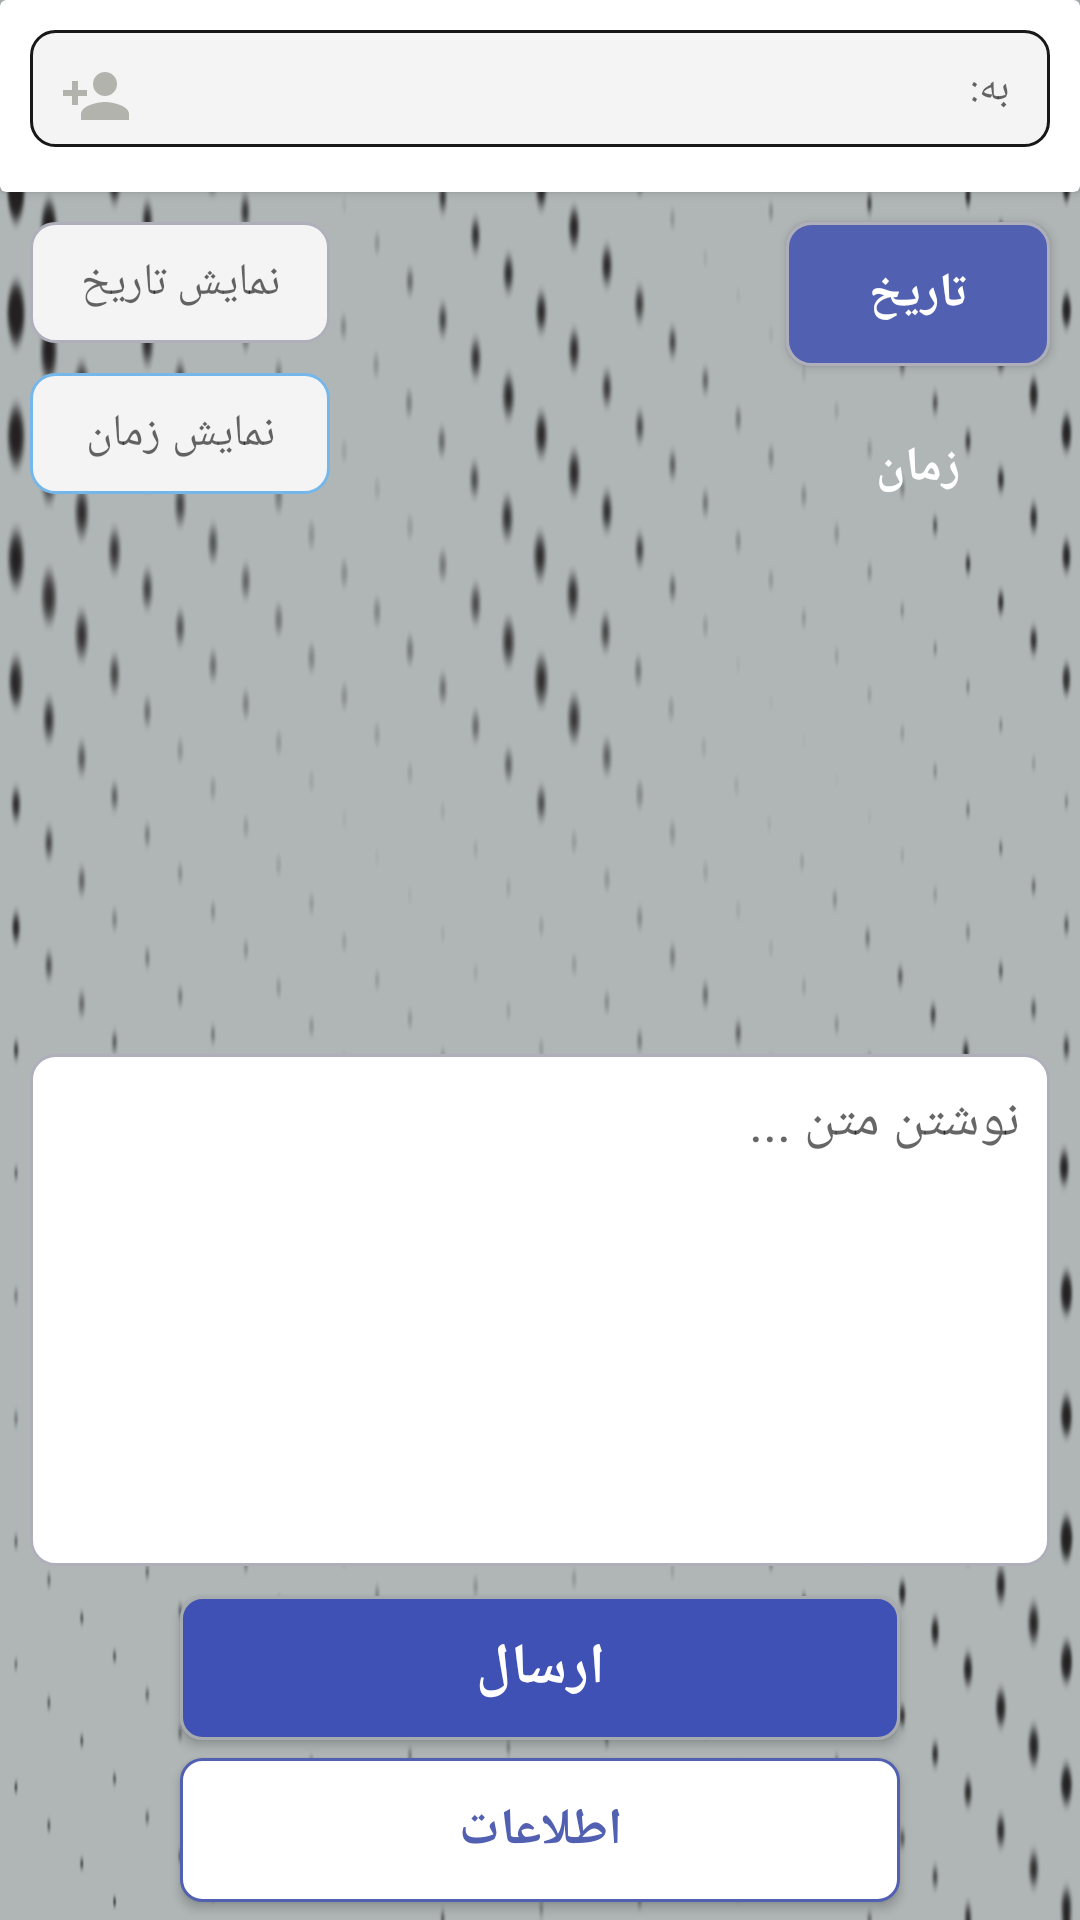

Icons on this 1080x1920 Android screen, each with its box as (left=x1, top=y1, right=x2, bottom=y2):
person add: (left=63, top=72, right=129, bottom=120)
